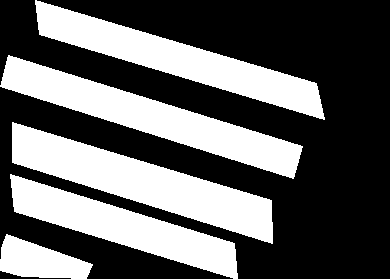parkingspot: (0, 55, 303, 179), (34, 0, 325, 119), (12, 122, 273, 244), (10, 174, 238, 279), (0, 234, 93, 279)
